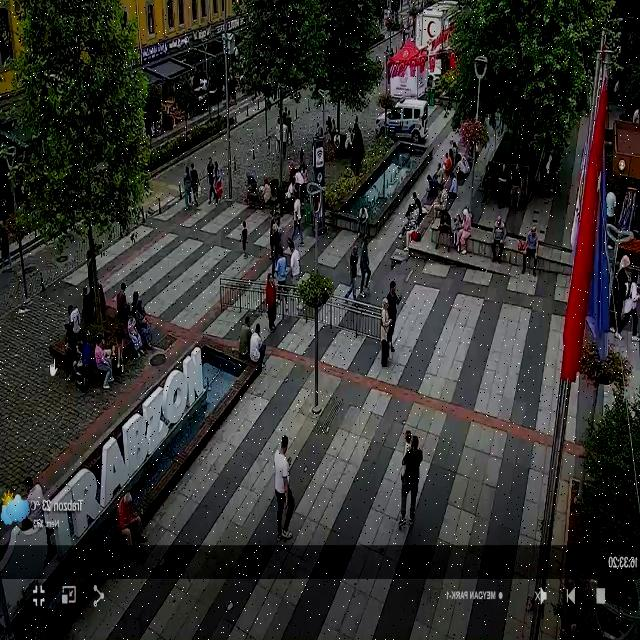Car: (374, 98, 429, 141)
